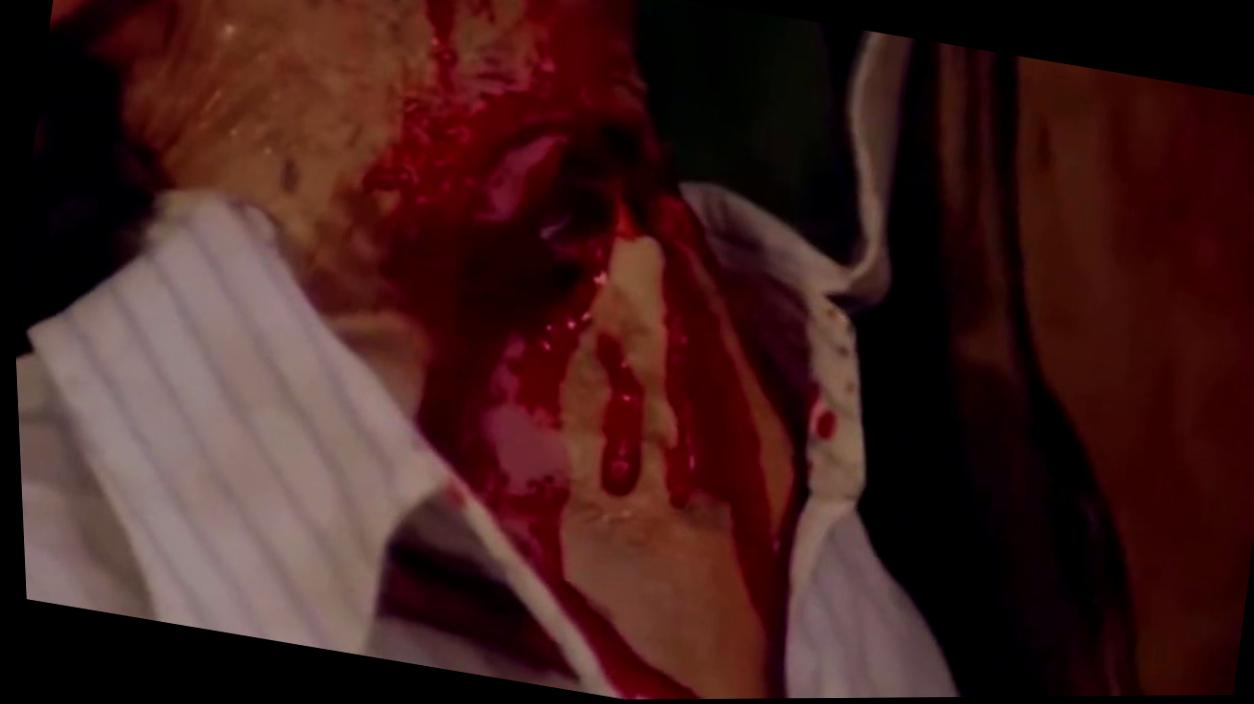Fire: (286, 0, 811, 701)
